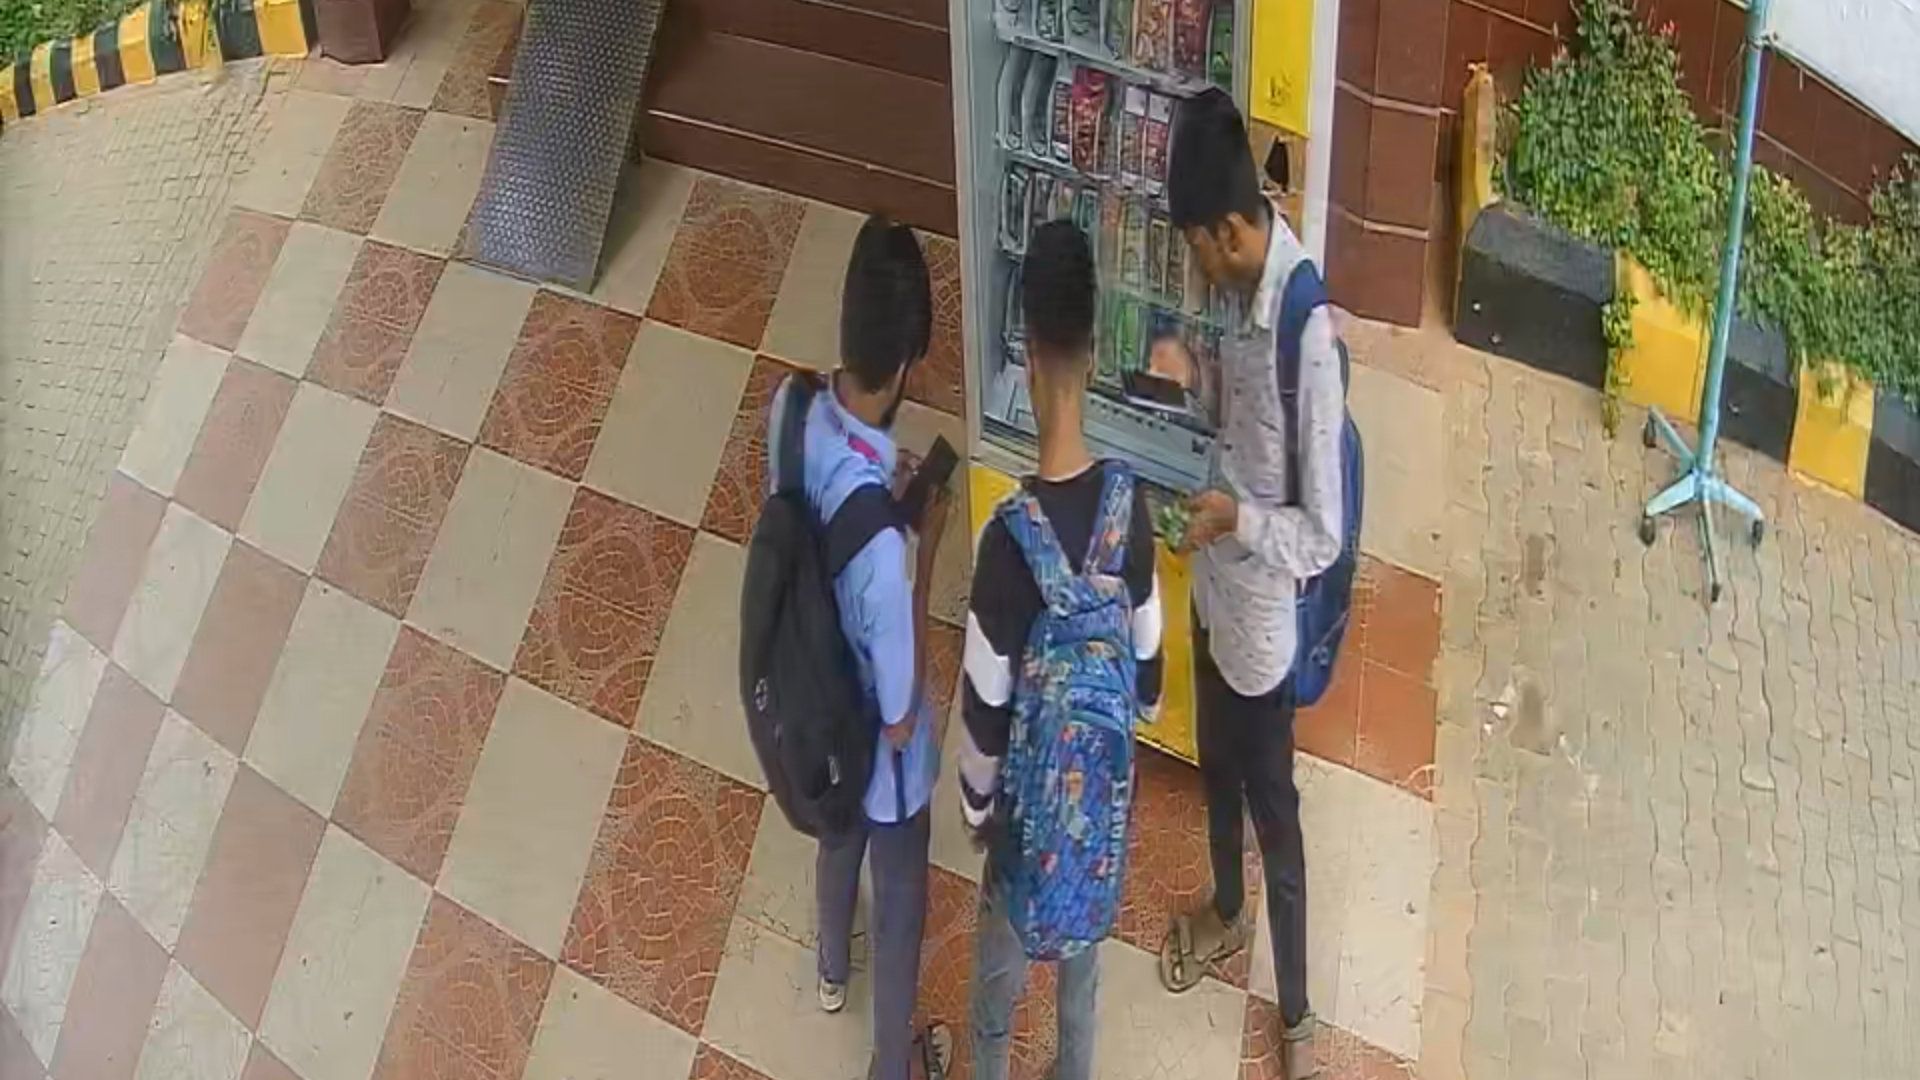intruder: (1153, 90, 1337, 1060)
